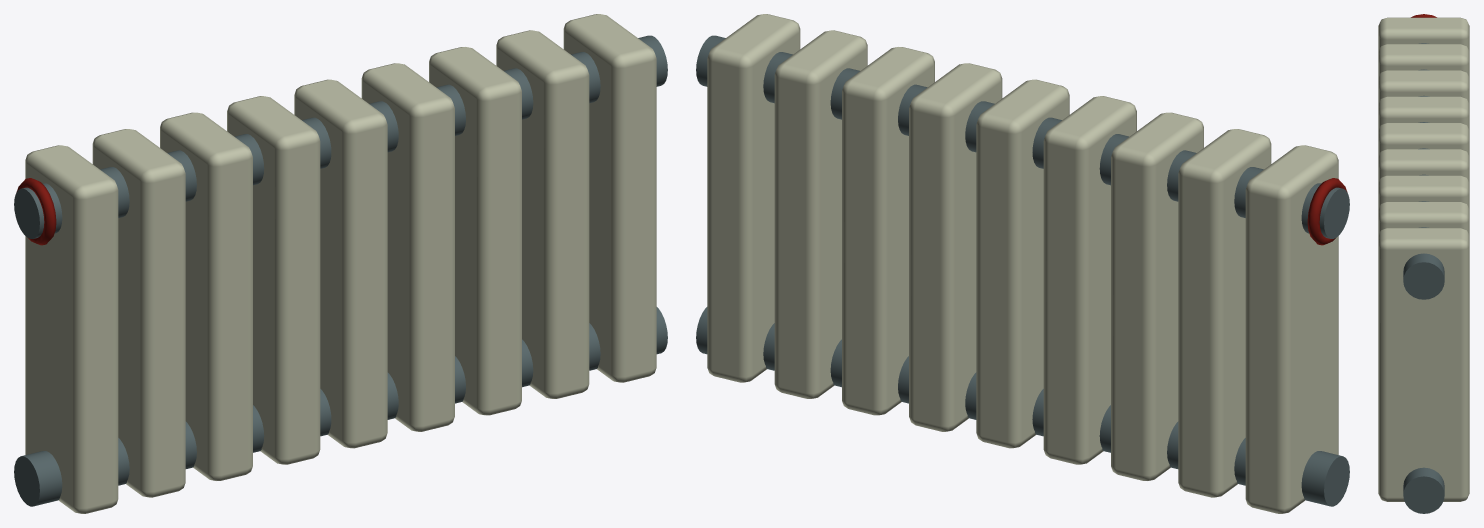
The model's file is Radiator.obj.
The picture shows the model from 3 angles, left to right: view 1: azimuth 30°, elevation 25°; view 2: azimuth 150°, elevation 25°; view 3: azimuth 270°, elevation 25°; orthographic projection. The views are drawn at different scales.
Parts seen in each view (by area): view 1: Radiator; view 2: Radiator; view 3: Radiator.
Part boxes in pixels (x1,y1,x2,y2): Radiator: [14, 14, 667, 513]; Radiator: [696, 14, 1349, 513]; Radiator: [1378, 14, 1469, 513].
Size of the model in its own units: 1.4 by 0.7 by 0.22.
